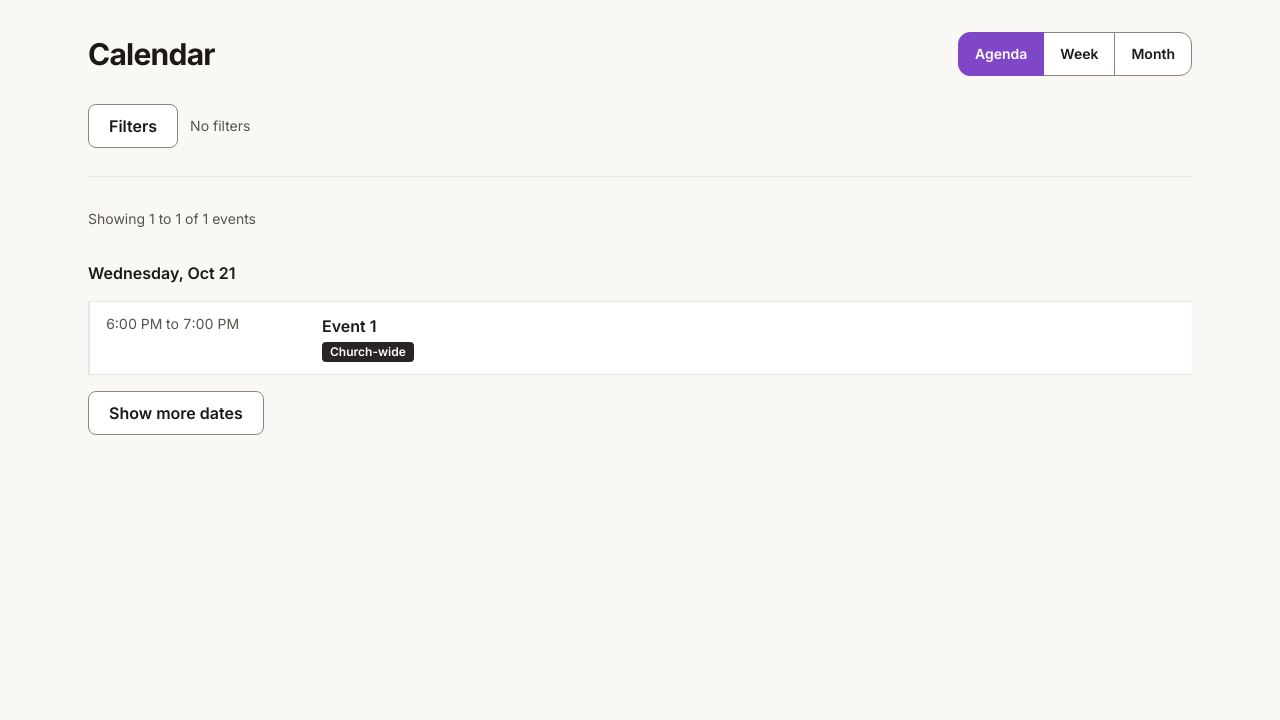
Test case: filter chips (DEC-99) › hides Remote seats and Childcare when nothing in view has them
Check: the text "Event 1" is shown, box x1=322 y1=316 x2=376 y2=336
Click the button "Filters" at [133, 126], box x1=88 y1=104 x2=178 y2=148
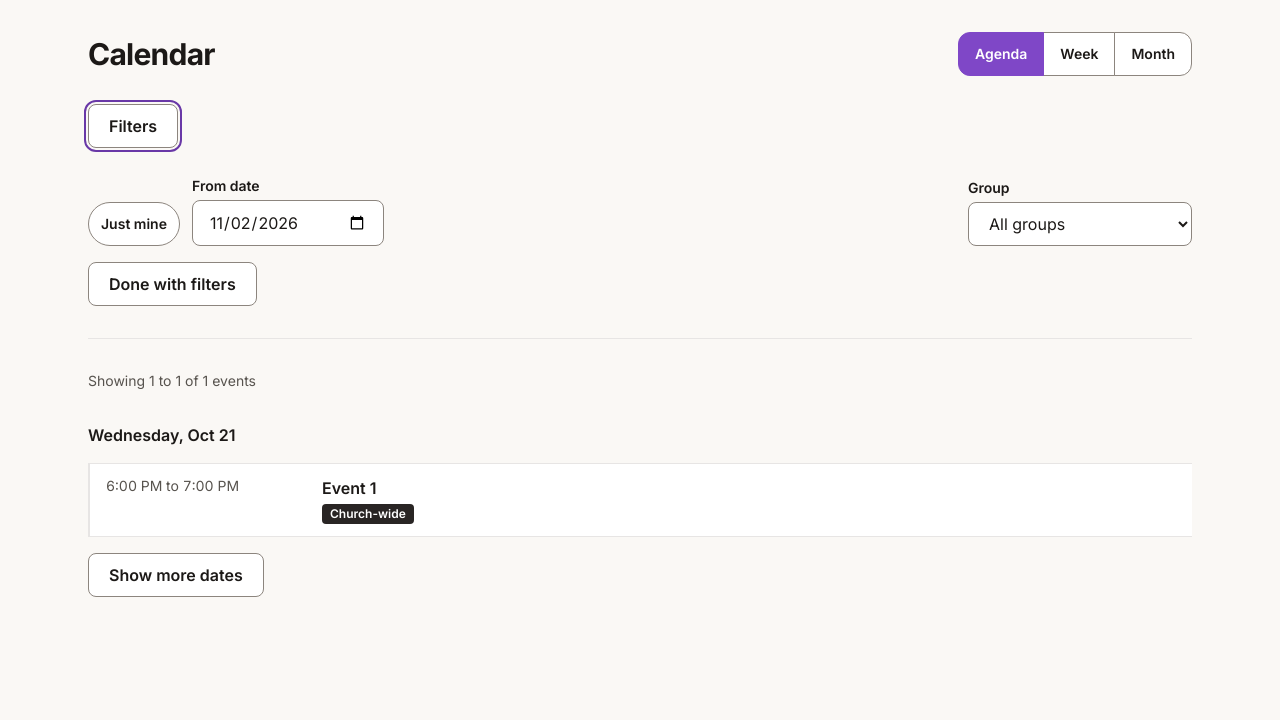
Check: the button "Just mine" is shown, box x1=88 y1=202 x2=180 y2=246
